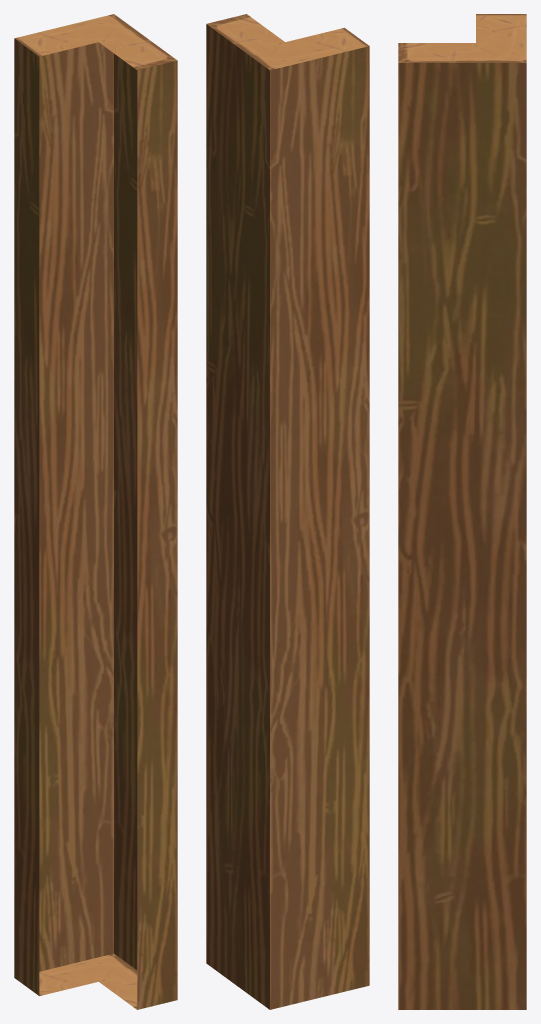
File: Corner_Interior_Big.glb
3 renders of one model, left to right at view 1: azimuth 30°, elevation 25°; view 2: azimuth 210°, elevation 25°; view 3: azimuth 270°, elevation 25°, orthographic.
Visible parts, largest first — view 1: Corner_Interior_Big; view 2: Corner_Interior_Big; view 3: Corner_Interior_Big.
Part boxes in pixels (x1,y1,x2,y2): Corner_Interior_Big: (14, 14, 177, 1009); Corner_Interior_Big: (206, 14, 369, 1009); Corner_Interior_Big: (398, 14, 526, 1009).
Size of the model in its own units: 0.3333 by 3 by 0.3681.
1 material, 1 textured.
